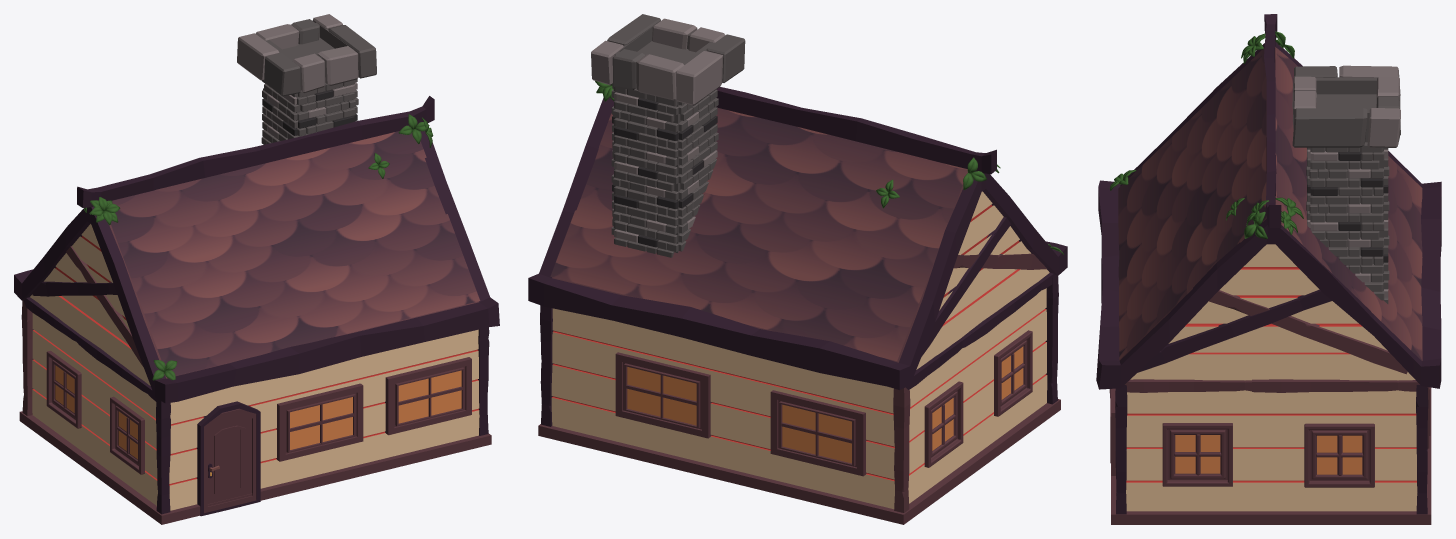
File: casa-madeira9.fbx
3 views of the same model, side by side, from view 1: azimuth 30°, elevation 25°; view 2: azimuth 150°, elevation 25°; view 3: azimuth 270°, elevation 25° (orthographic). The views are drawn at different scales.
Parts seen in each view (by area): view 1: CasaMadeira9_LOD0, PortaCasaMadeira9; view 2: CasaMadeira9_LOD0; view 3: CasaMadeira9_LOD0.
Part boxes in pixels (x1=…): CasaMadeira9_LOD0: x1=14, y1=14, x2=499, y2=524; PortaCasaMadeira9: x1=204, y1=408, x2=256, y2=513; CasaMadeira9_LOD0: x1=528, y1=14, x2=1067, y2=524; CasaMadeira9_LOD0: x1=1096, y1=14, x2=1441, y2=524.
Size of what is drawn, in the model's own units: 5.21 by 4.87 by 3.9.
